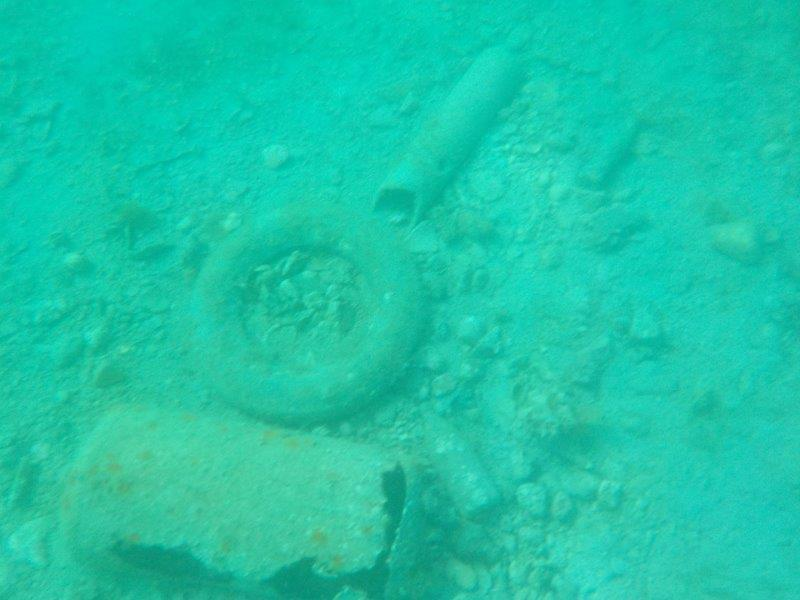bottle: (410, 397, 505, 525), (571, 109, 650, 200)
tire: (185, 200, 428, 429)
